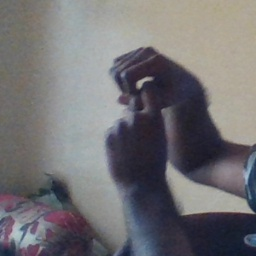Q: (92, 43, 196, 173)
